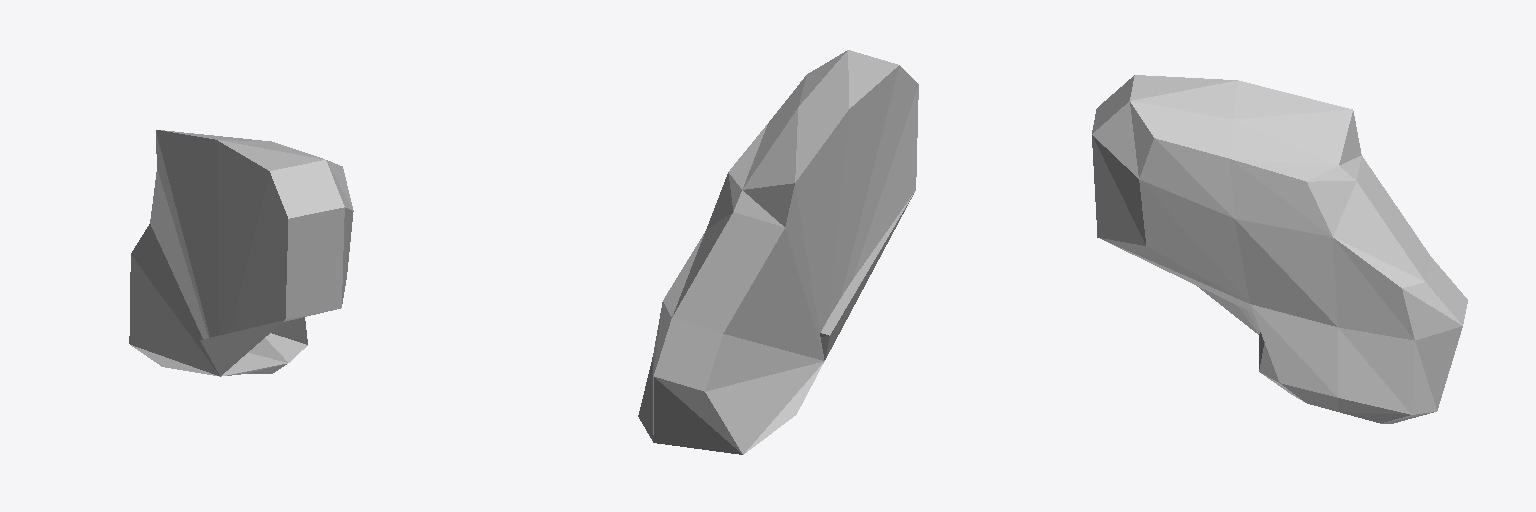
Rendered from spinosaurusShoulderLeft.obj.
3 renders of one model, left to right at view 1: azimuth 30°, elevation 25°; view 2: azimuth 150°, elevation 25°; view 3: azimuth 270°, elevation 25°, orthographic.
Visible parts, largest first — view 1: UpperArn.left_Cube.002; view 2: UpperArn.left_Cube.002; view 3: UpperArn.left_Cube.002.
Boxes of the visible parts, x1=… form: UpperArn.left_Cube.002: x1=129, y1=130, x2=353, y2=376; UpperArn.left_Cube.002: x1=638, y1=50, x2=918, y2=454; UpperArn.left_Cube.002: x1=1092, y1=75, x2=1467, y2=423.
Size of the model in its own units: 0.3504 by 0.8004 by 0.8955.